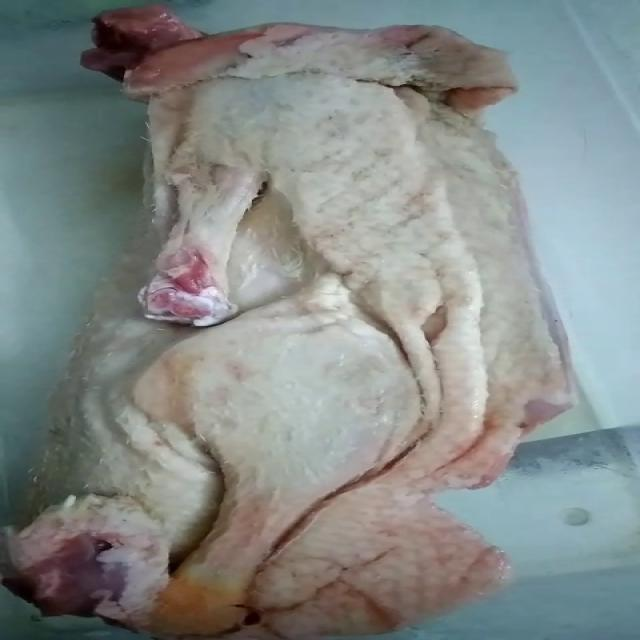chicken: (1, 0, 591, 640)
